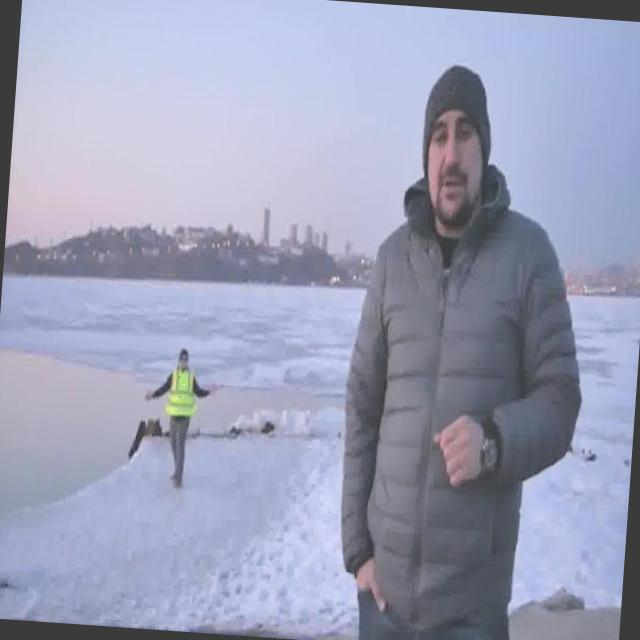no-gloves: (393, 368, 523, 516)
no-helmet: (380, 48, 537, 236)
no-vest: (311, 168, 614, 614)
vest: (163, 366, 200, 422)
